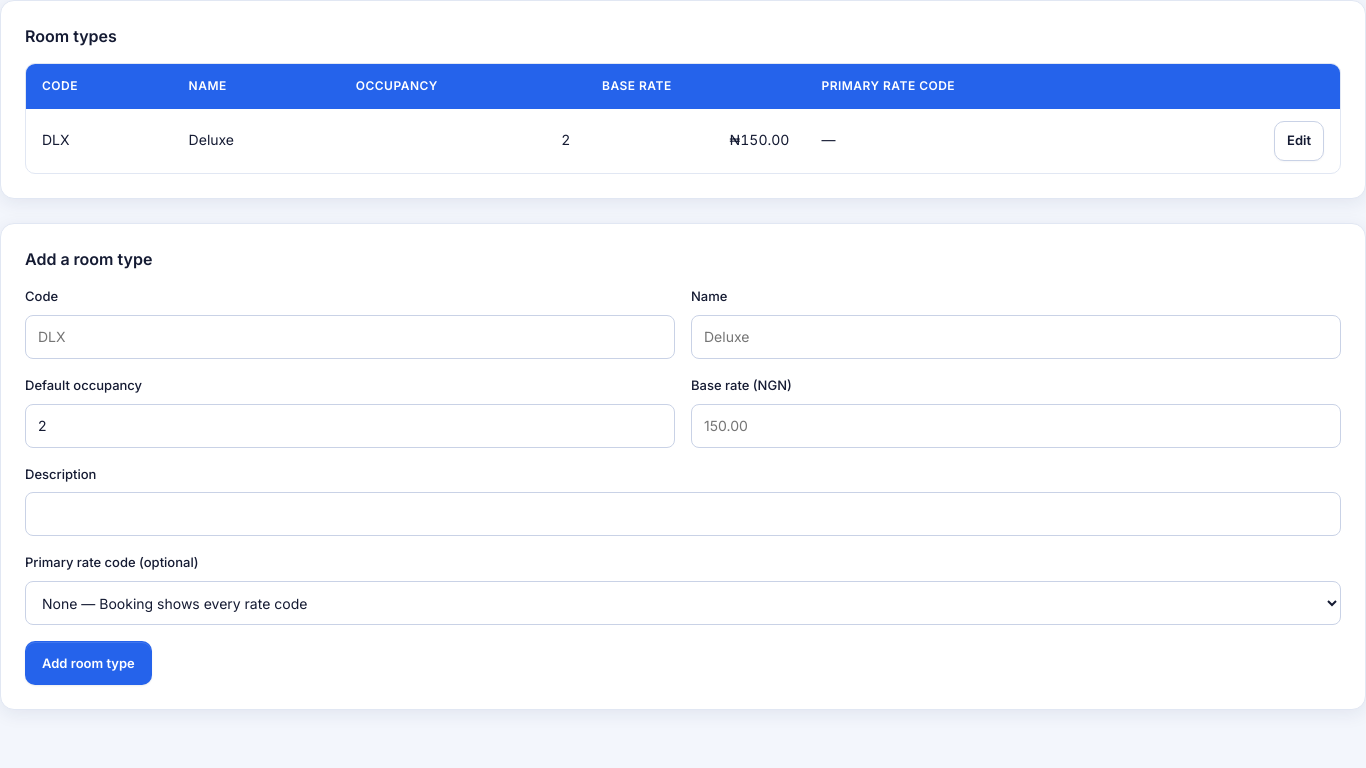
Test: <RoomTypesTab> › cancels the edit without submitting
expect the text "DLX" is shown: met, box [26,108,173,173]
Click the button "Edit" at (1299, 141), box [1274,121,1324,161]
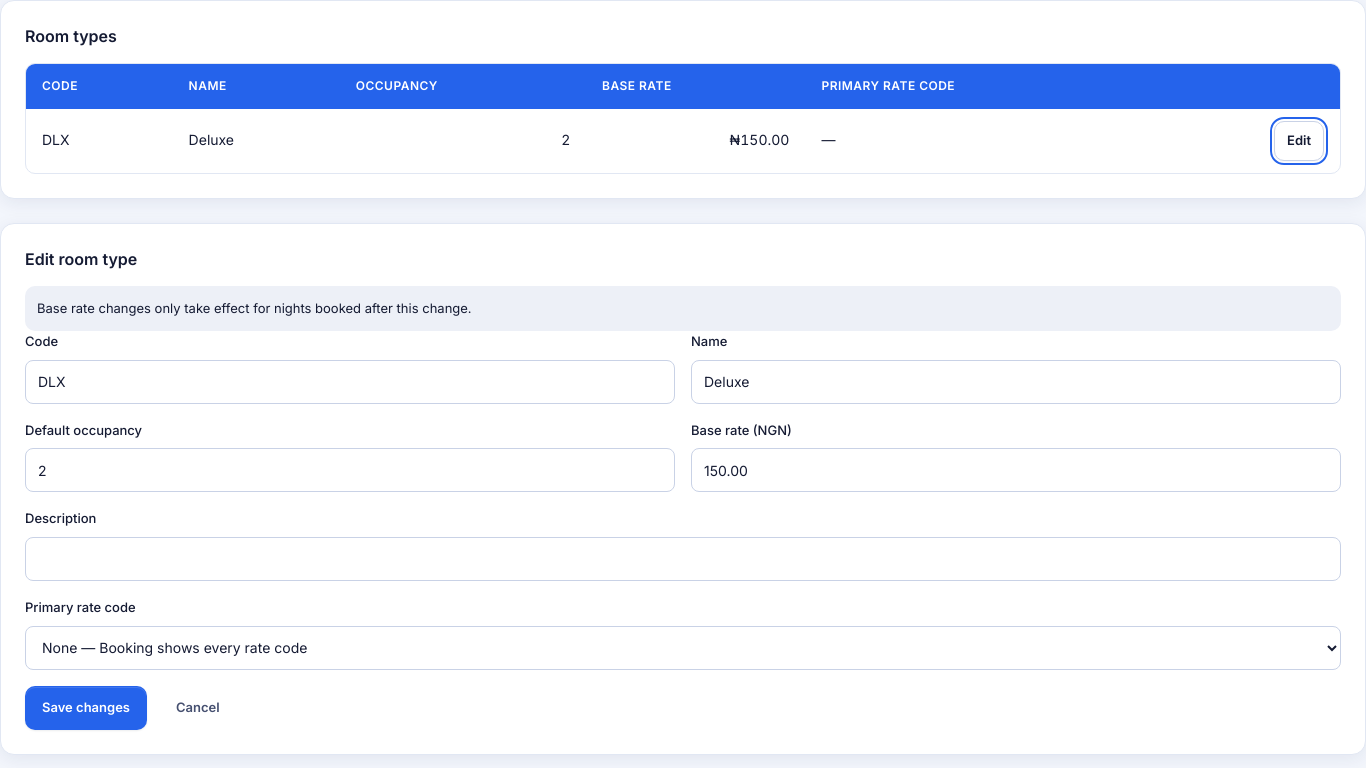
Click the button "Cancel" at (198, 708), box [159,686,237,730]
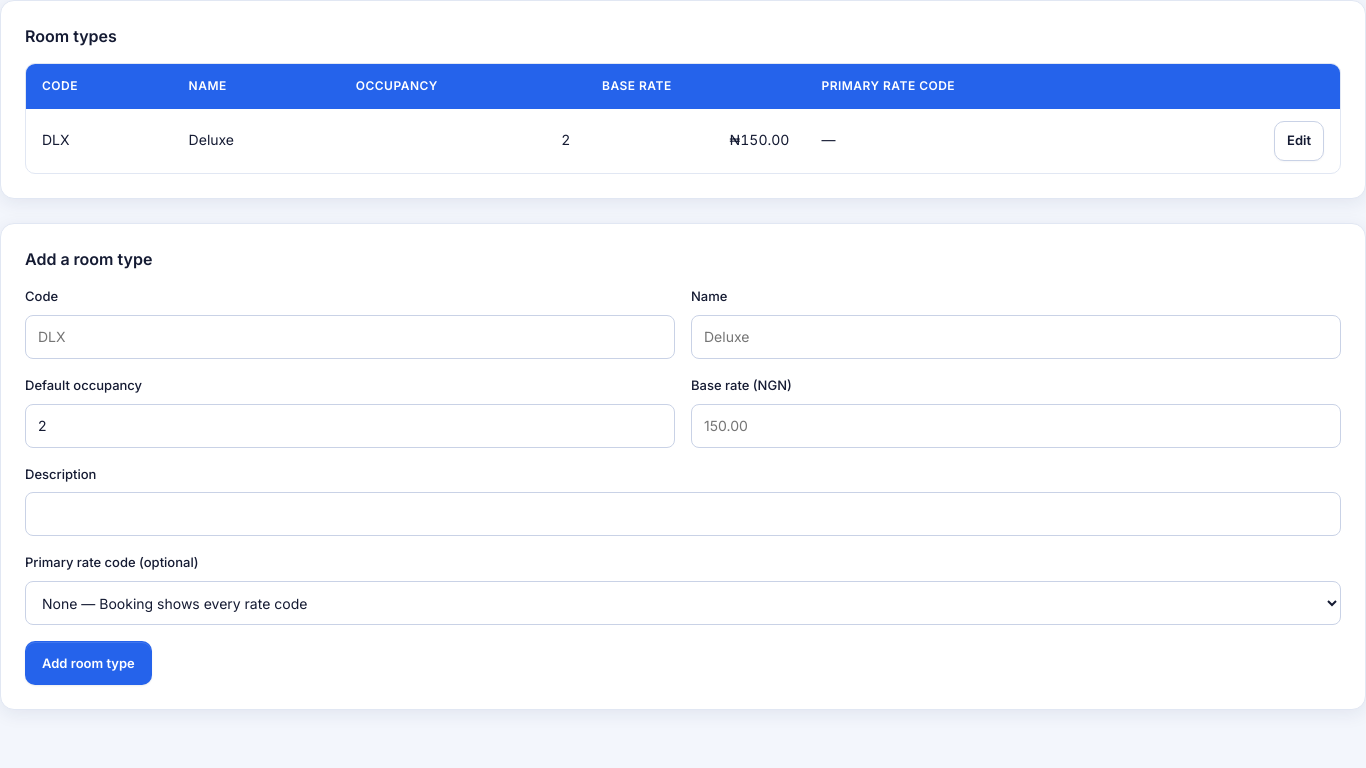
expect the heading "Edit room type" is gone: met
